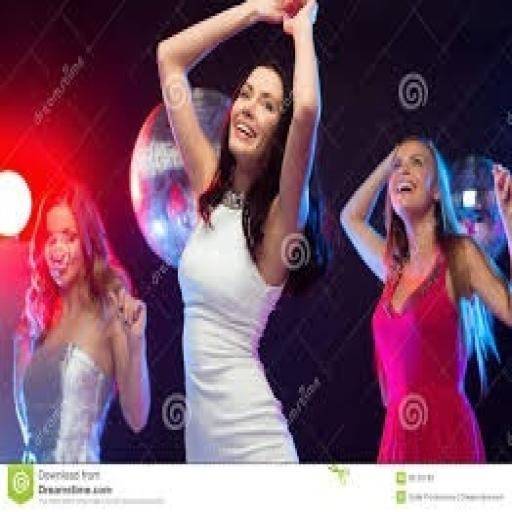dancing: (152, 0, 324, 464), (336, 130, 510, 464), (10, 178, 152, 464)
